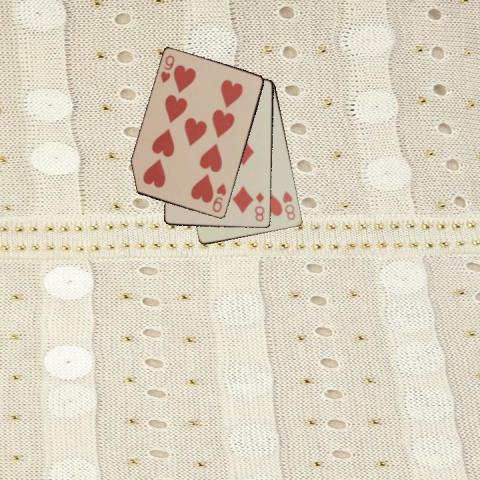8d: (252, 189, 266, 223)
8h: (280, 188, 297, 221)
9h: (209, 181, 228, 214), (158, 52, 176, 85)
